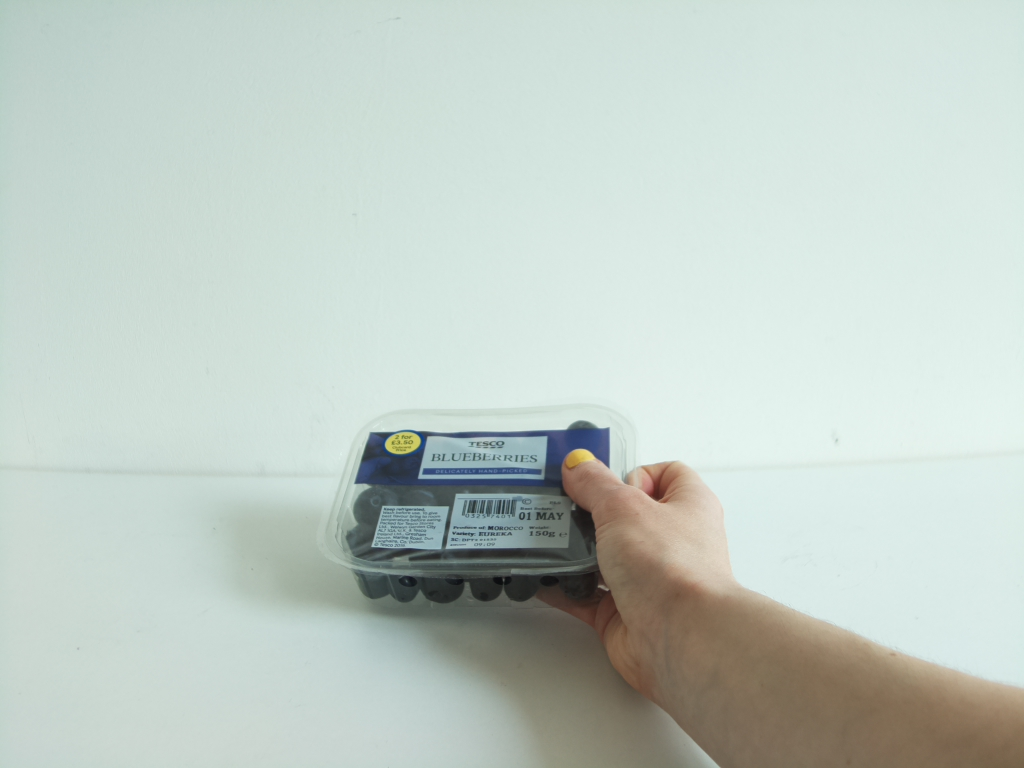soft-fruit: (324, 408, 638, 603)
